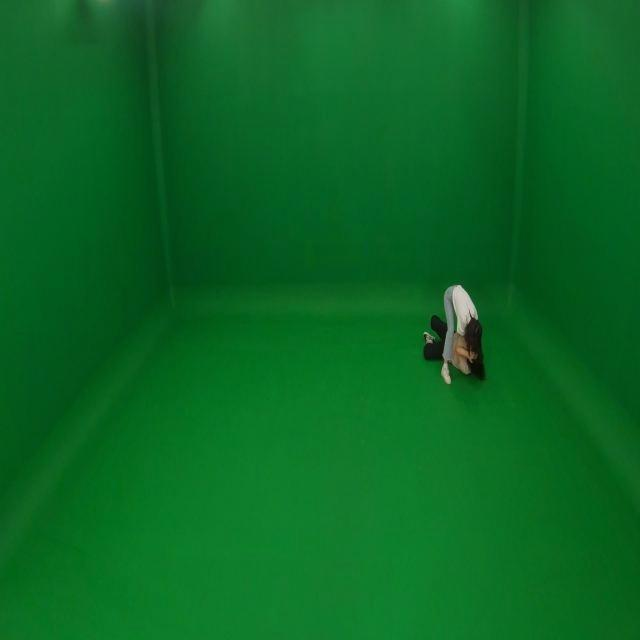fight: (422, 280, 486, 390)
